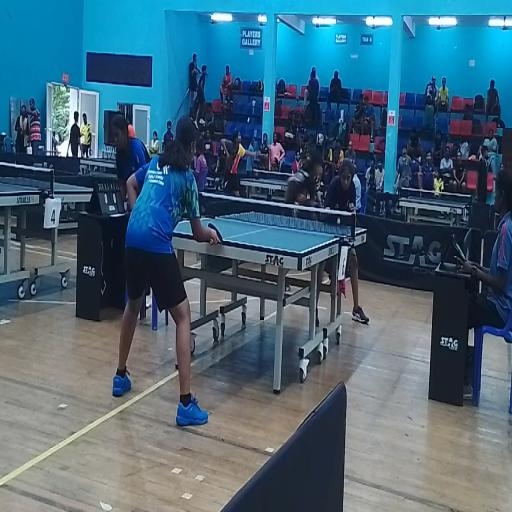ball: (335, 215, 342, 226)
